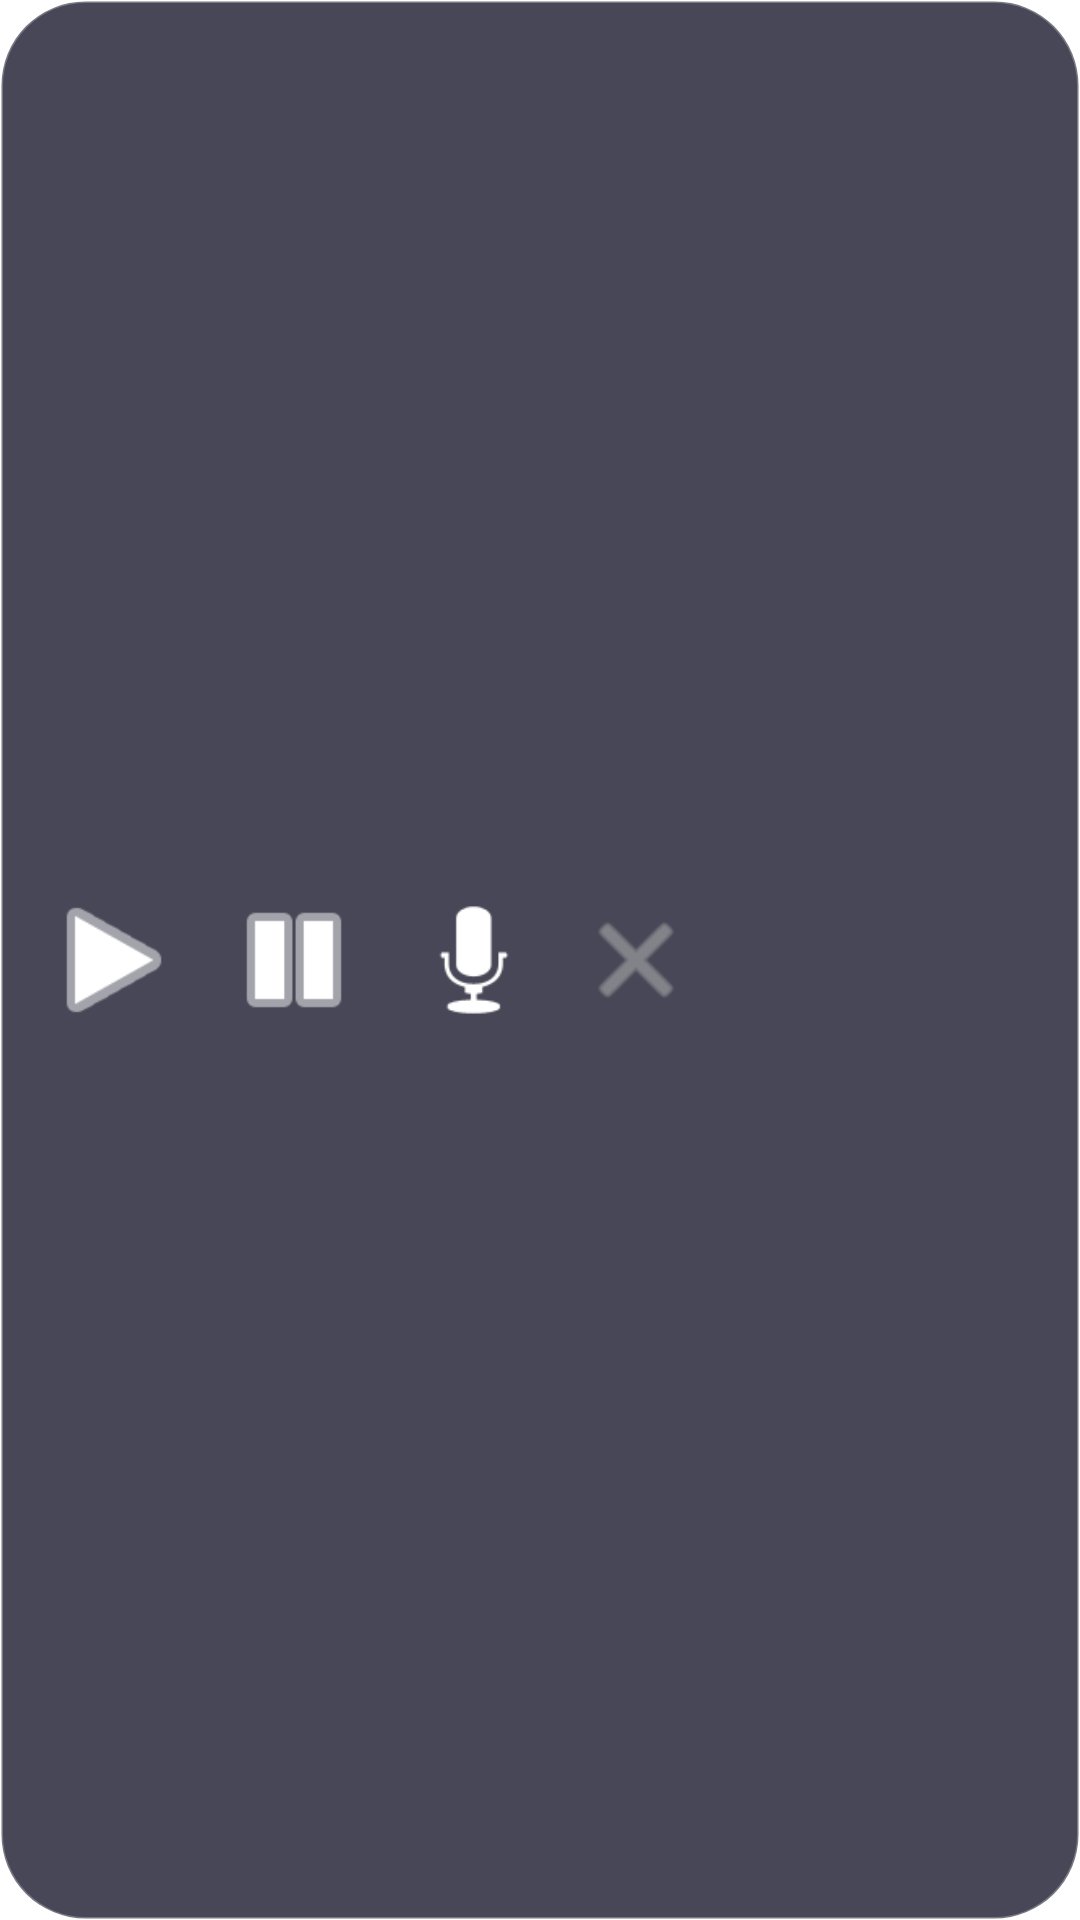

Icons on this 1080px x 1920px Android screen, each with the point to tap as point (x, y):
서비스 종료: point (636, 960)
읽기 중지: point (294, 960)
화면 읽기: point (114, 960)
